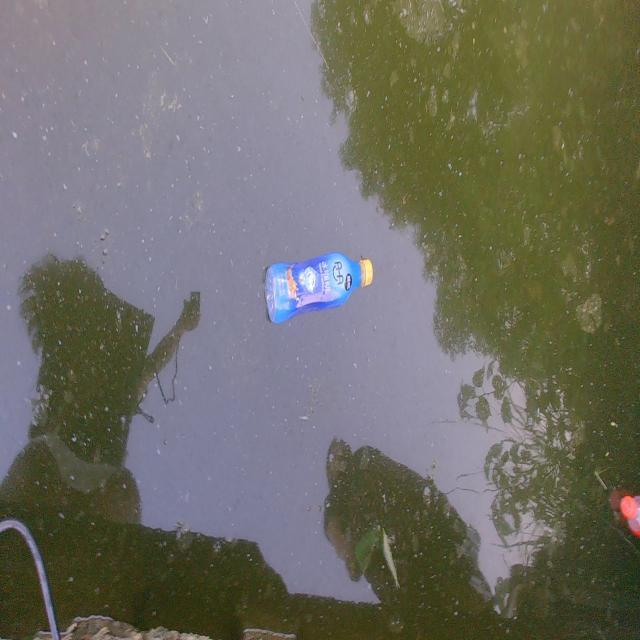bottle: (241, 234, 394, 331)
